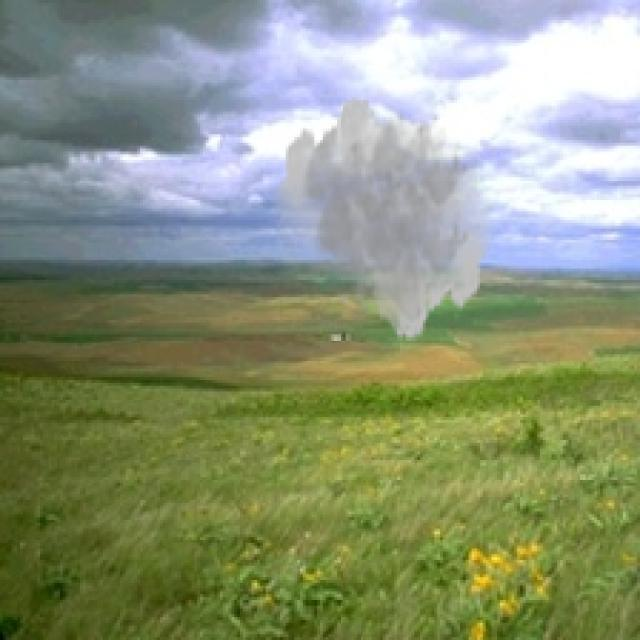Smoke: (272, 94, 494, 343)
